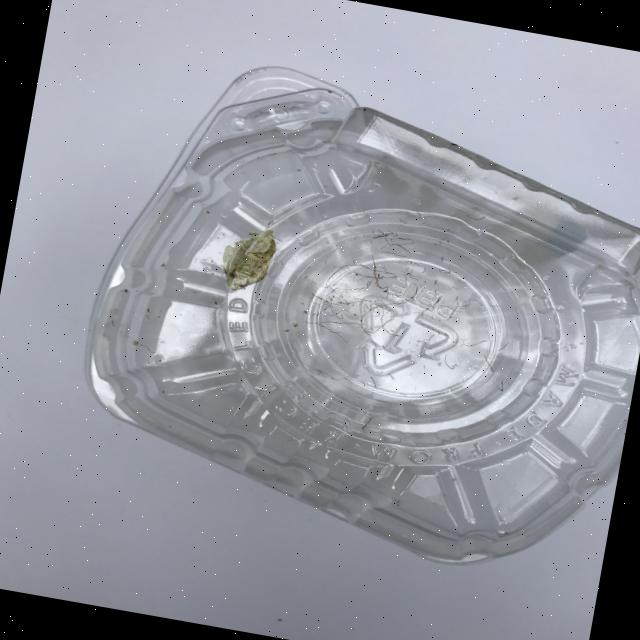plastic: (57, 40, 640, 591)
